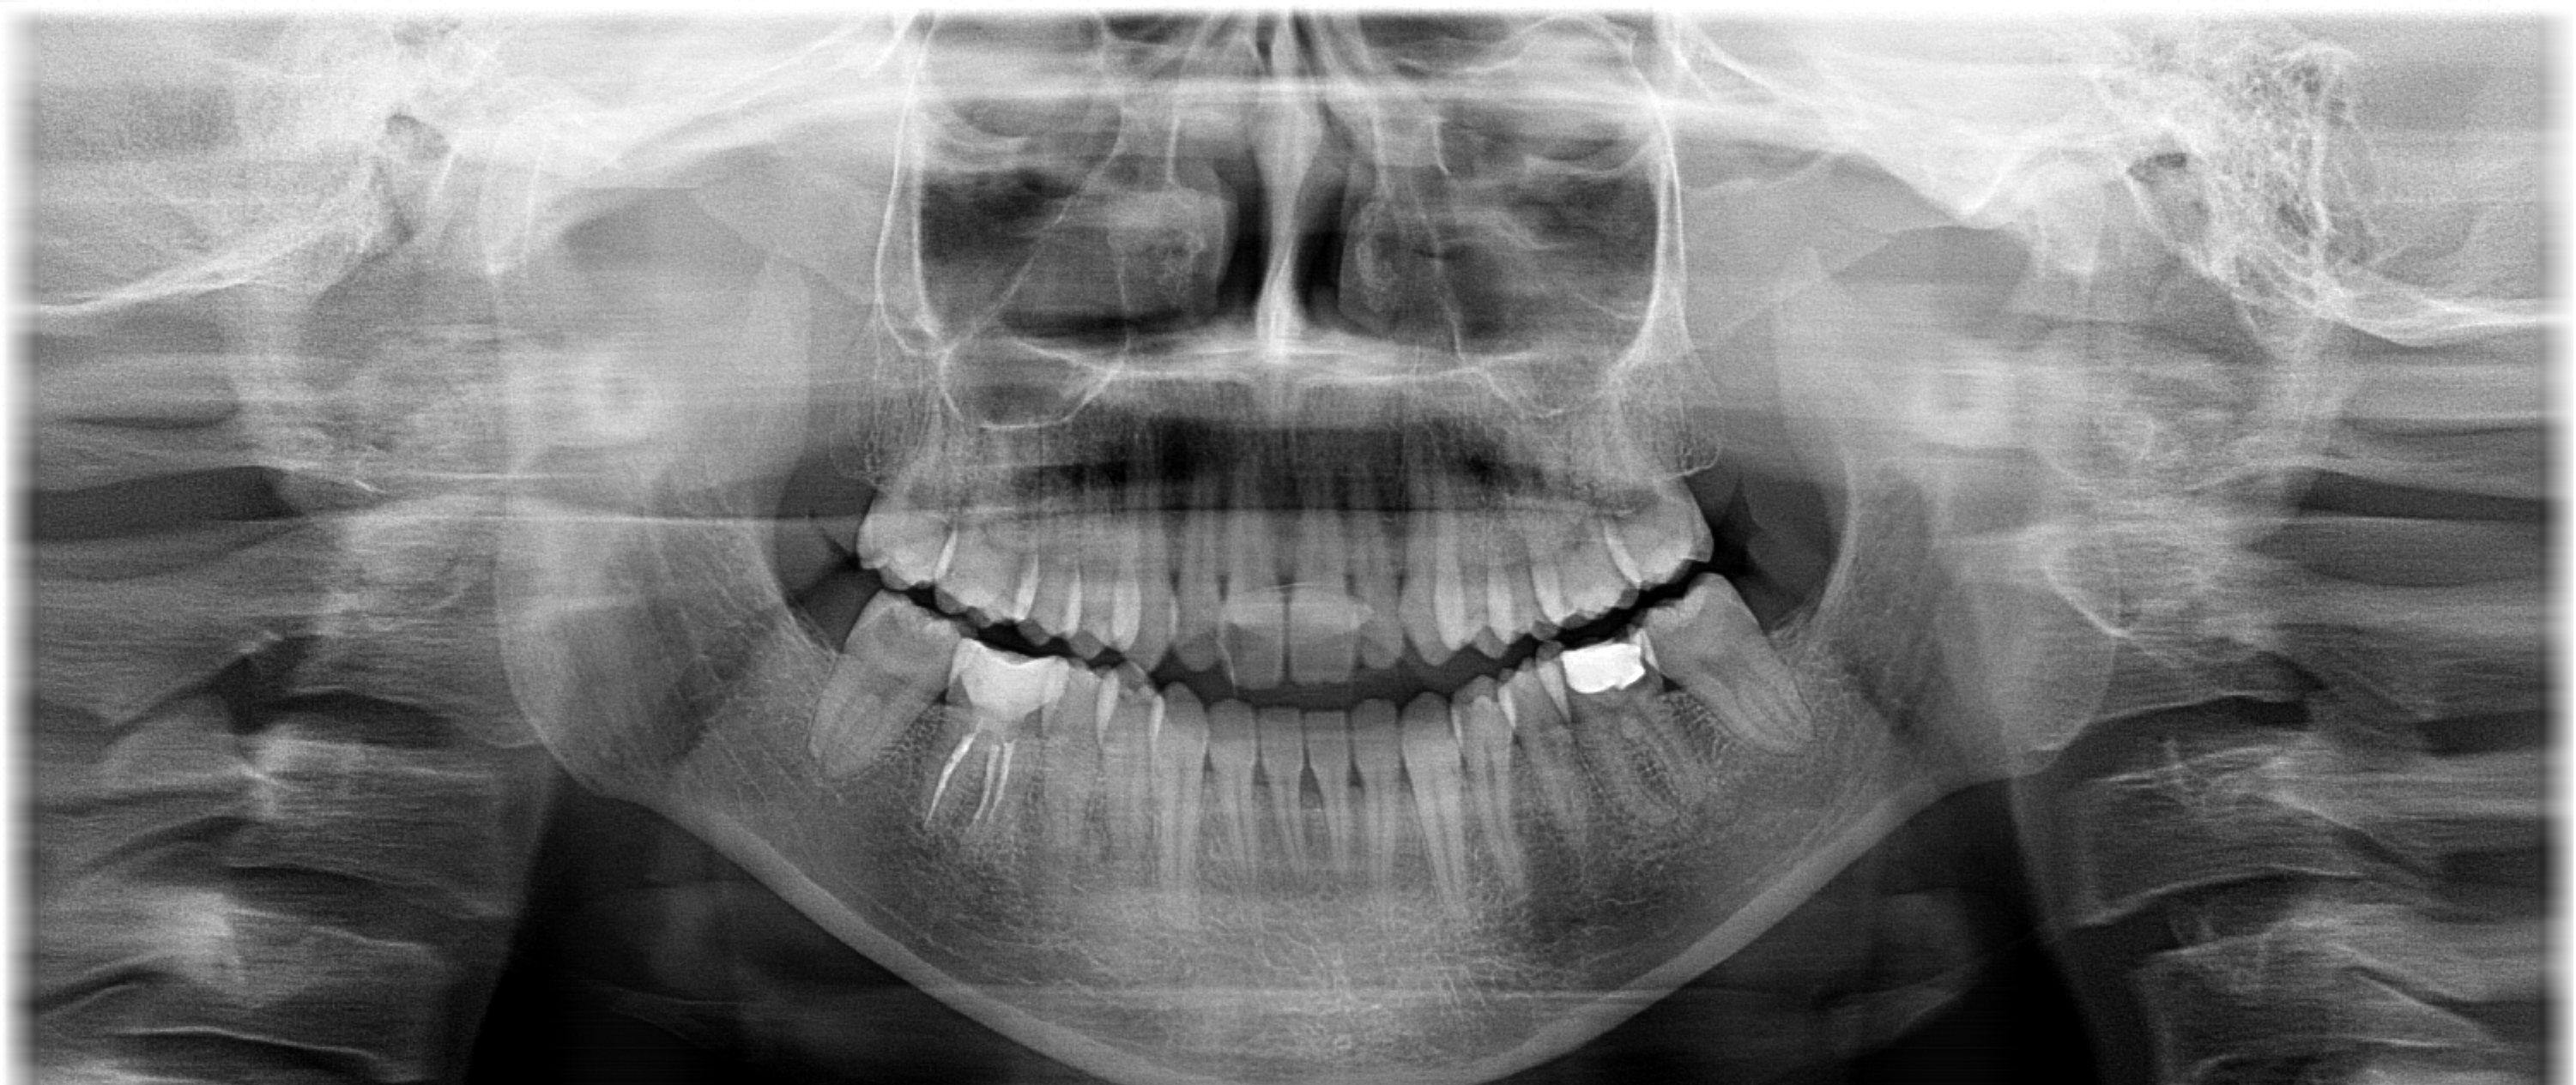tratamiento_conducto: (907, 617, 1081, 878)
